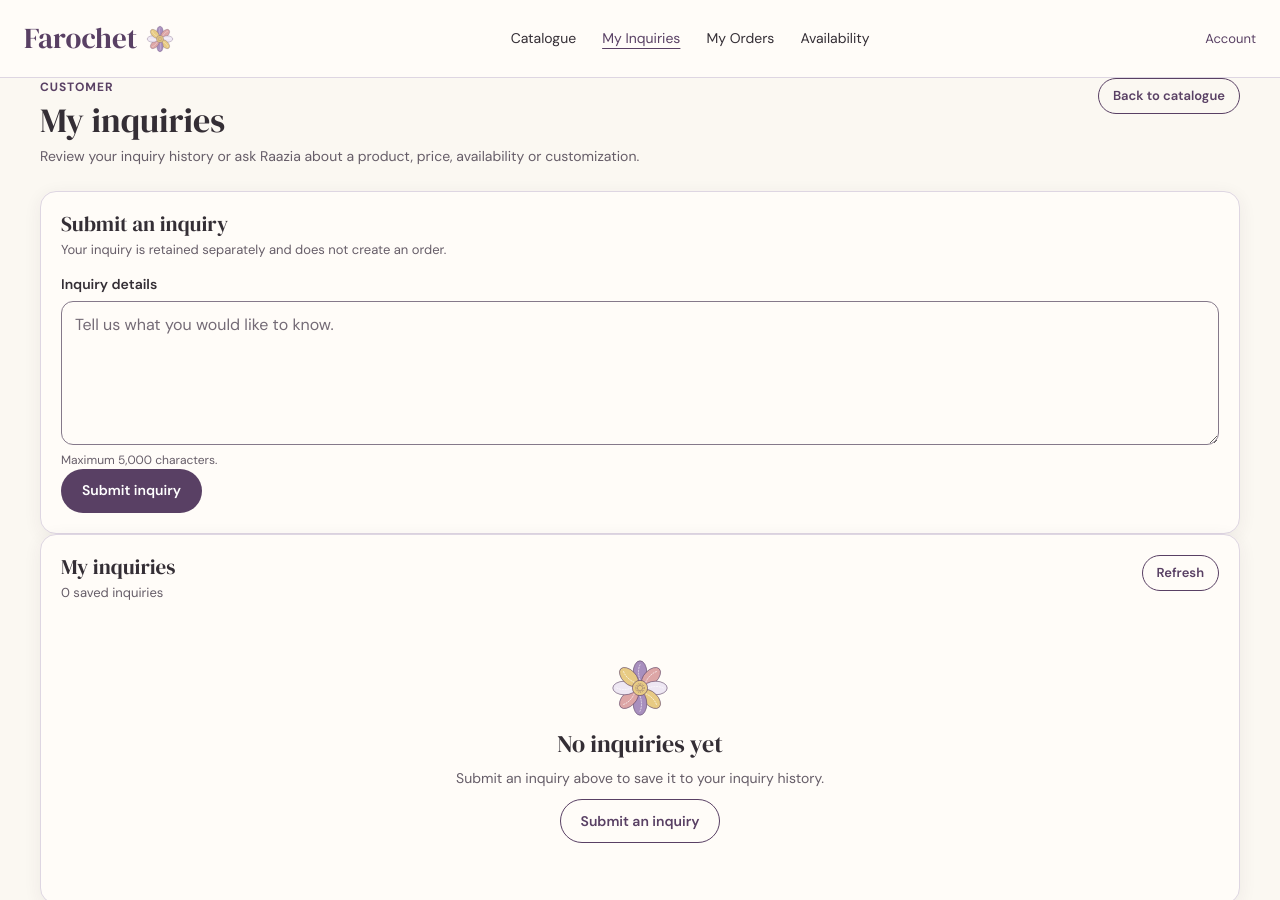
Scenario: CustomerInquiryPage › prevents repeated submission while the first request is pending
Expected: the heading "No inquiries yet" is shown, left=557, top=730, right=723, bottom=758
Type "Please confirm customization availability." into the text box labelled "Inquiry details" at (640, 373), box left=61, top=301, right=1219, bottom=445
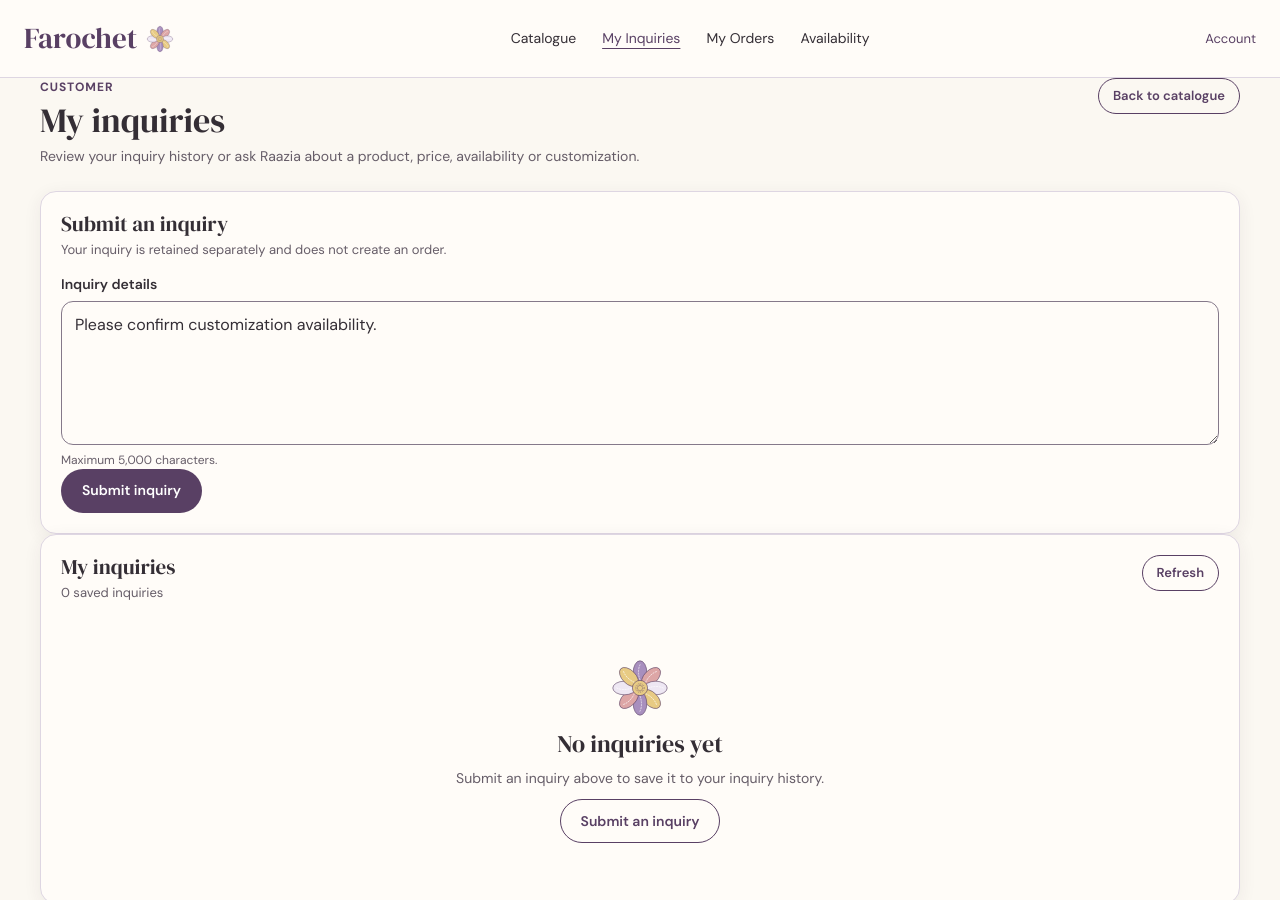
Click the button "Submit inquiry" at (132, 491), box left=61, top=469, right=202, bottom=513
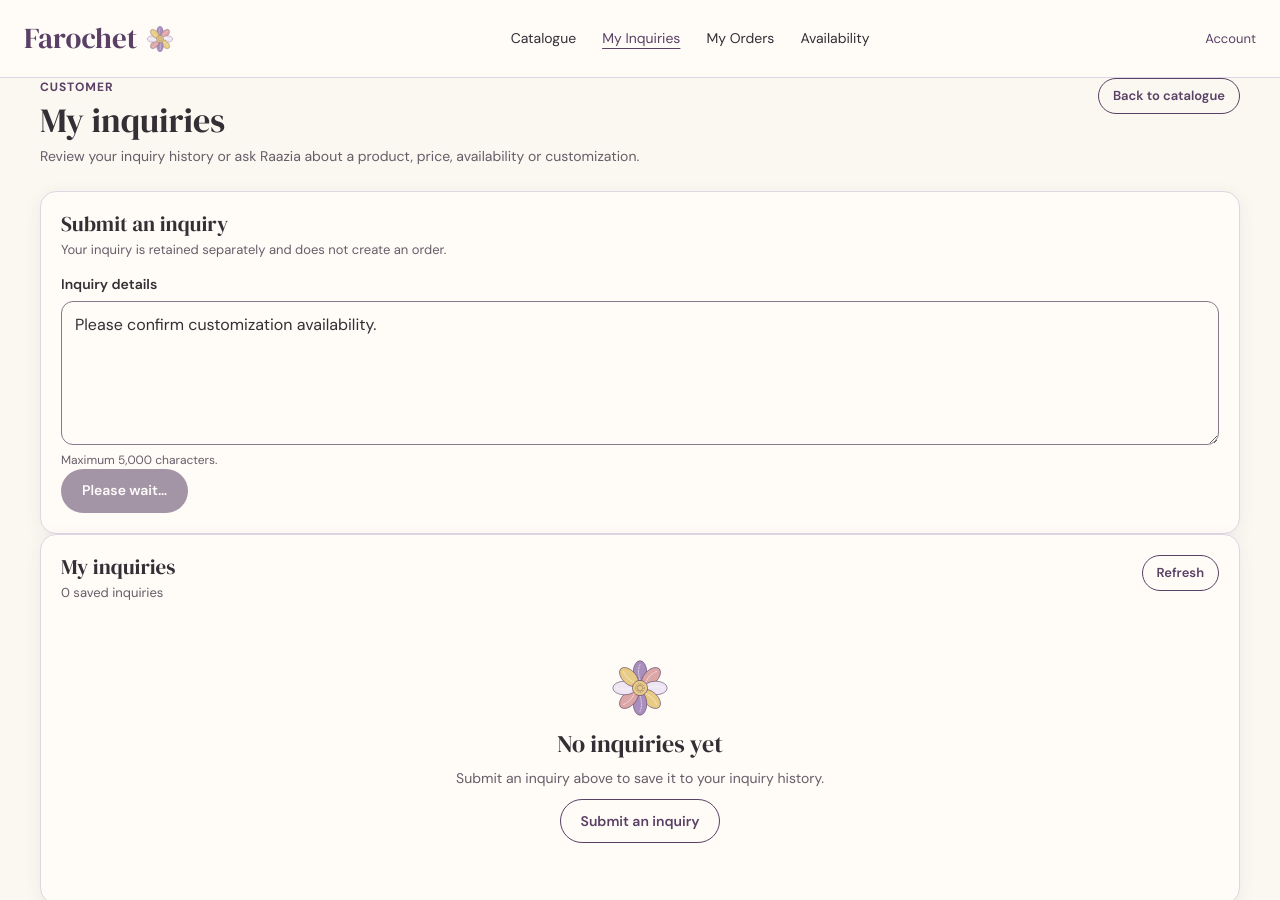
Now the button named "Submit inquiry" is disabled
Click the button named "Submit inquiry" at (124, 491), box left=61, top=469, right=188, bottom=513
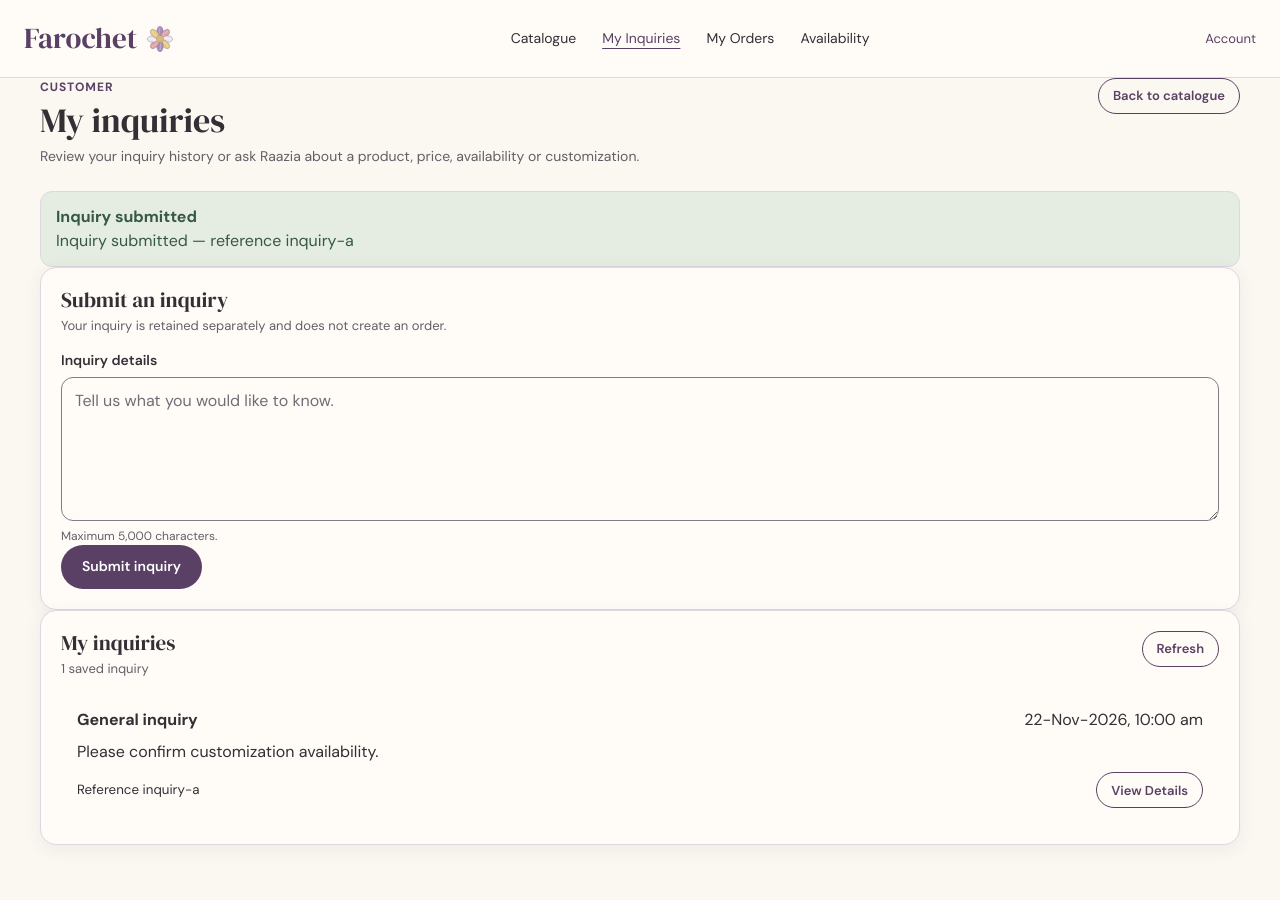
Now the text "Inquiry submitted" is shown, box left=56, top=206, right=197, bottom=227
